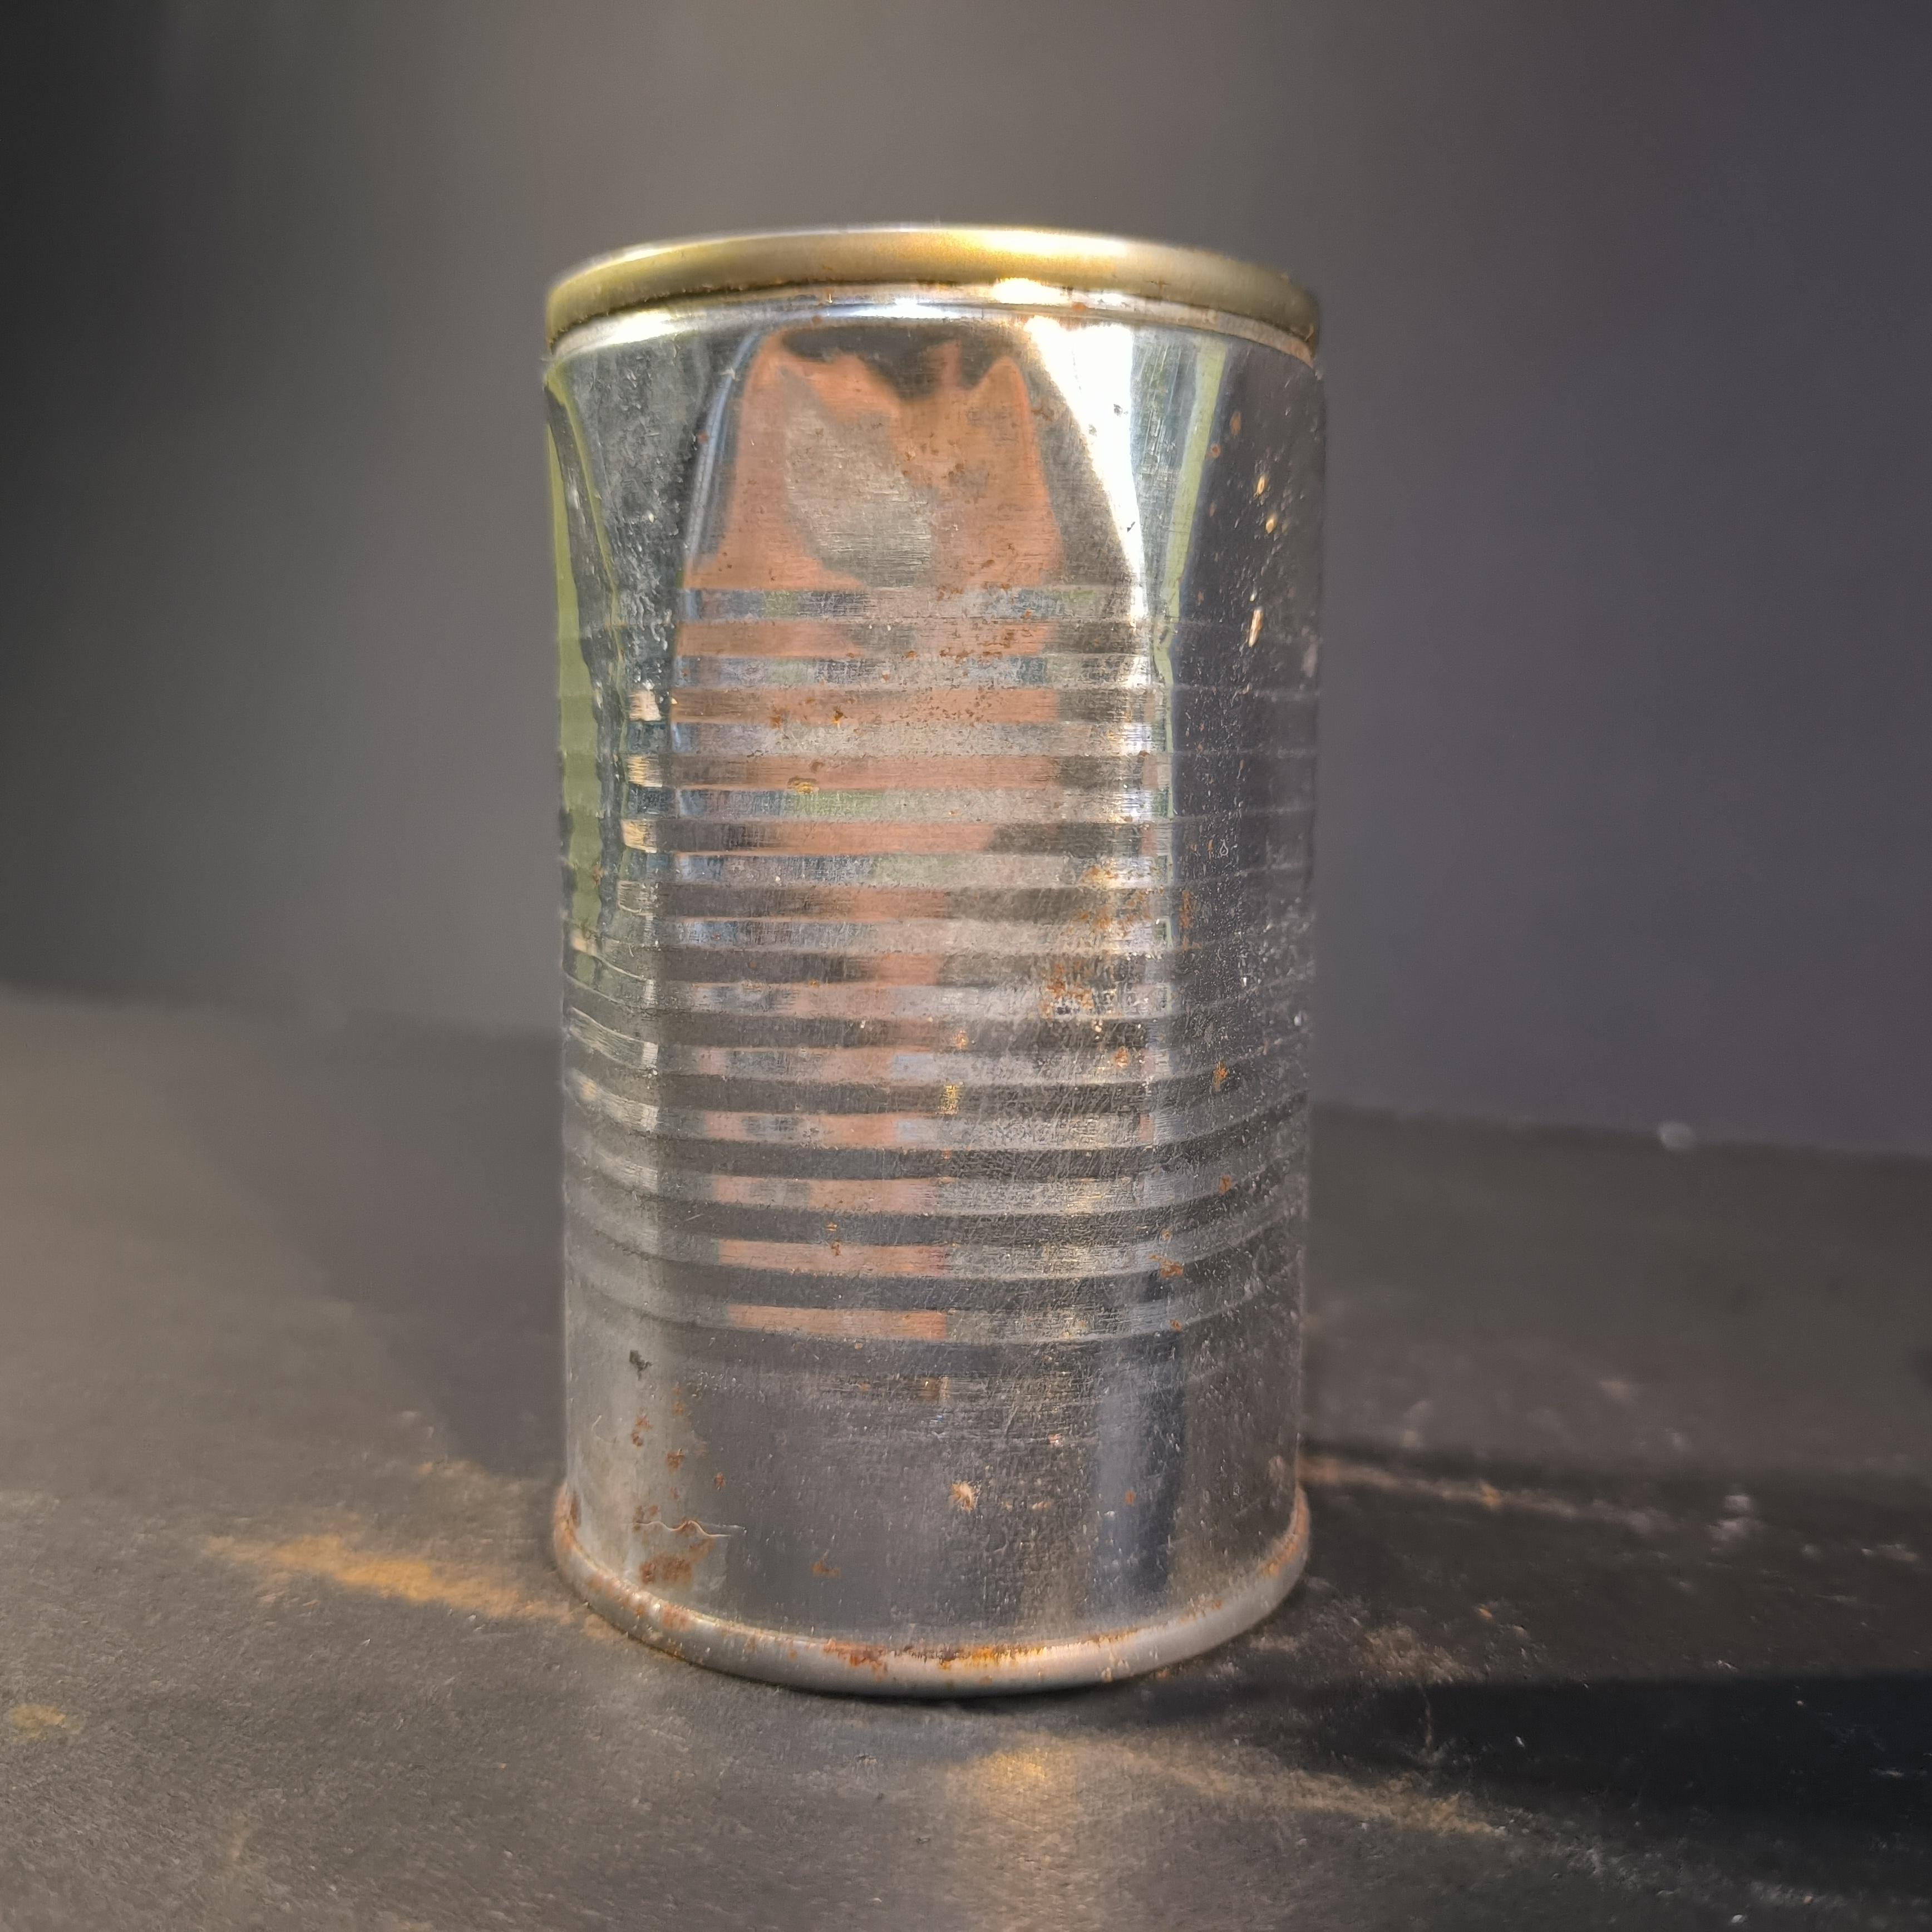Dented: (492, 152, 1369, 1720)
